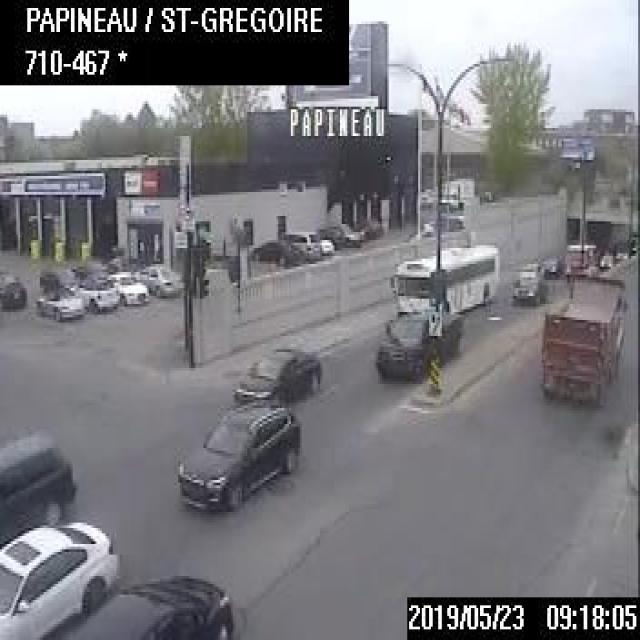bus: (391, 237, 500, 318)
vehicle: (171, 399, 299, 512), (0, 517, 122, 635), (540, 273, 629, 408), (59, 572, 233, 638), (0, 424, 80, 541), (373, 310, 464, 382), (229, 340, 323, 406), (35, 282, 86, 324), (247, 234, 304, 268), (72, 274, 120, 312), (136, 261, 182, 298), (108, 269, 149, 307), (507, 265, 544, 306), (36, 262, 80, 295), (276, 230, 321, 262), (439, 175, 476, 213), (312, 222, 362, 248), (0, 269, 29, 312), (598, 249, 614, 270), (613, 246, 627, 260)
